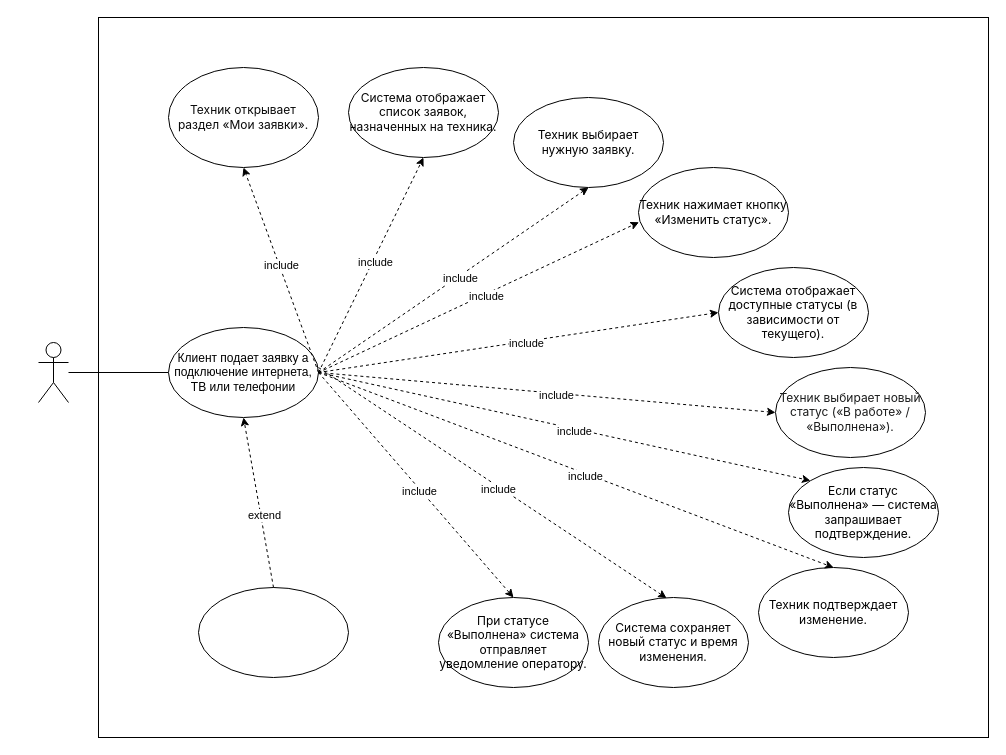
Some shapes in this 1006 by 755 pixel diagram are drawn without their labels. The shapes that lost their labels are listed below. From the top down, each one's centre as x and y in pixels, then its label:
At pixel 53 372: "Технический специалист".
At pixel 273 632: "сообщение «Невозможно изменить статус с X на Y».".
